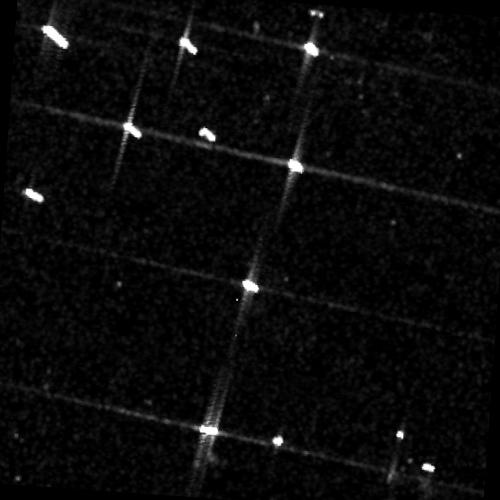ship: (40, 23, 69, 50), (177, 35, 198, 56), (122, 120, 142, 139), (24, 186, 44, 203), (199, 125, 216, 143), (241, 278, 260, 293), (286, 157, 303, 173), (303, 40, 318, 57), (198, 424, 219, 436), (271, 432, 284, 447), (421, 460, 436, 473), (394, 428, 405, 440)
